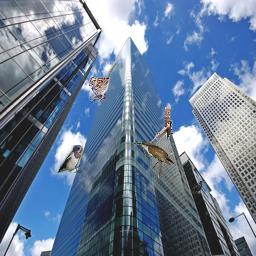Crow: (193, 181, 203, 194)
Cuckoo: (134, 142, 174, 180)
Sparrow: (89, 63, 116, 103), (155, 103, 173, 143)
Swallow: (56, 145, 83, 173)
